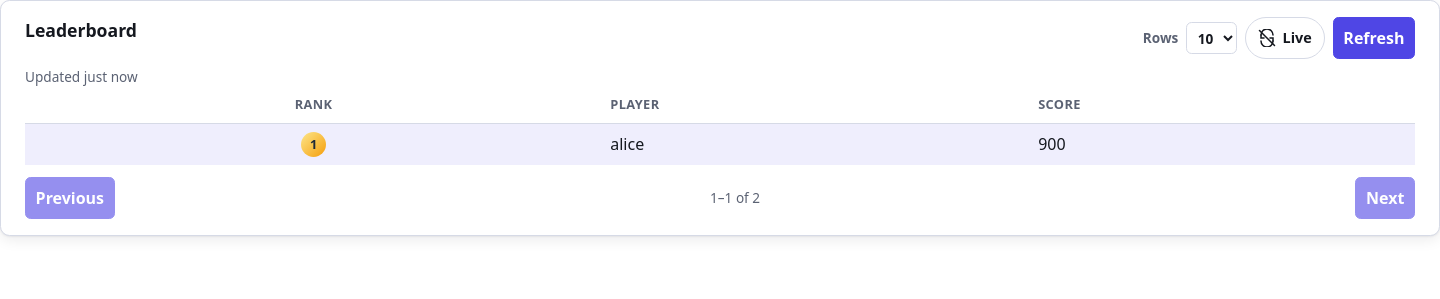
Leaderboard › highlights a player that newly appears on the page
This screenshot has width=1440, height=299.
expect the text "alice" is shown: met, box [602,123,1030,165]
Click the button "Refresh": click(1374, 38) [1333,17,1415,59]
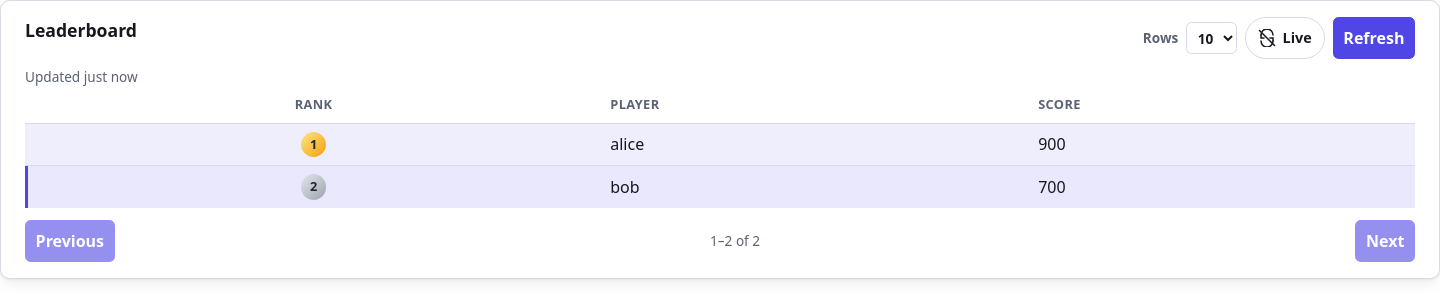
expect the text "bob" is shown: met, box [602,166,1030,208]
expect the number of rows with class "changed" is 1: met, box [25,166,1415,208]
expect the row with class "changed" shows "bob": met, box [610,176,640,198]
